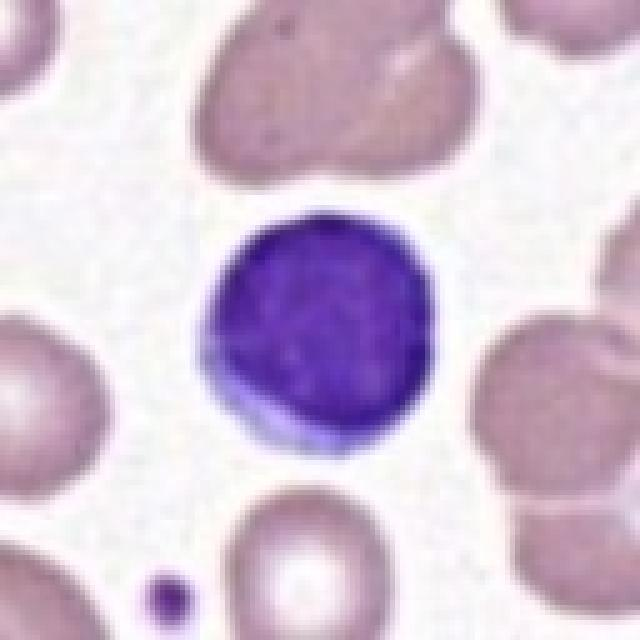lympho: (189, 204, 449, 462)
